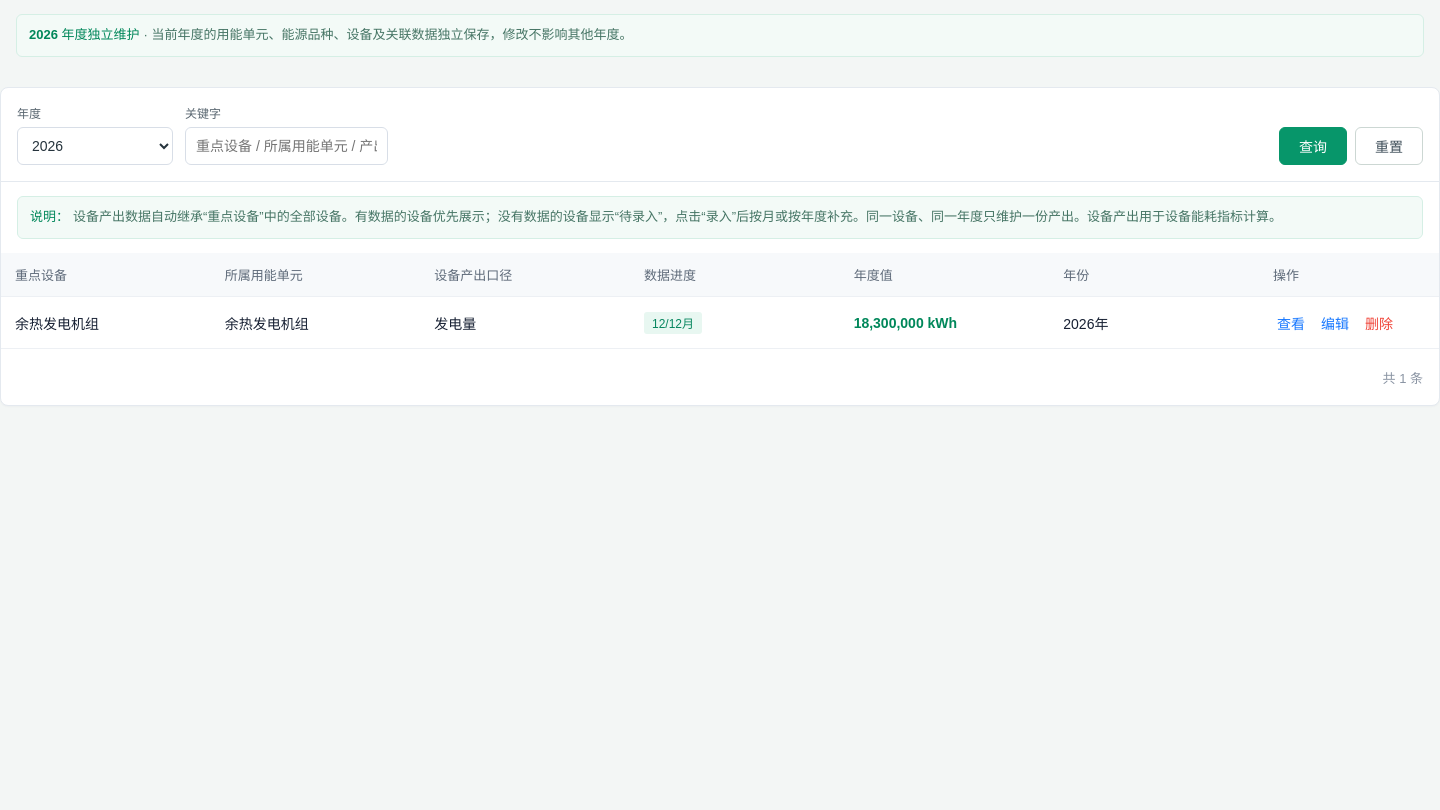
device output page inheritance and entry › cancels or deletes only the selected annual output while retaining the device and flow
The width and height of the screenshot is (1440, 810).
Click the button "删除" at (1379, 323), box [1361,311,1397,335]
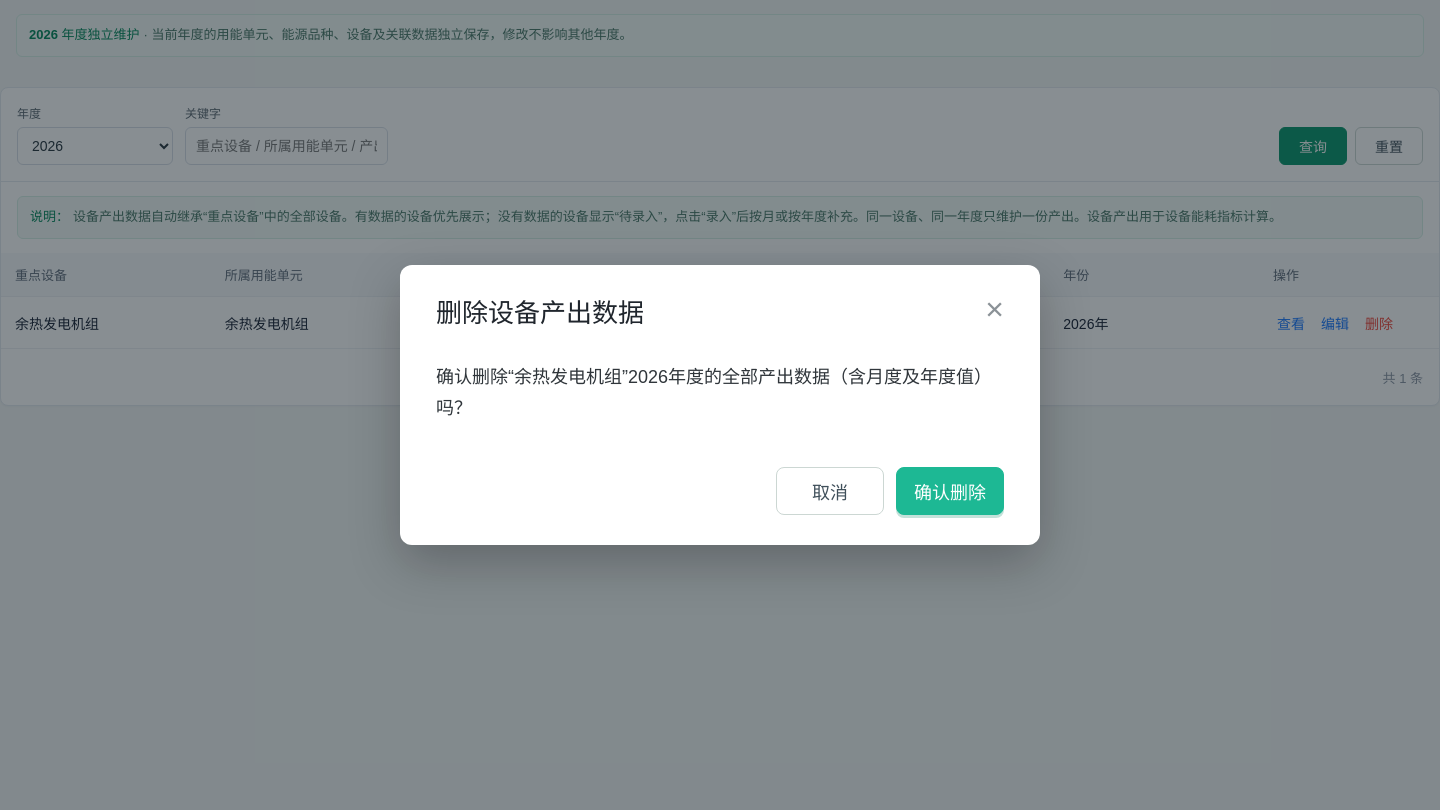
Check: the dialog shows "2026年度的全部产出数据", box [400,264,1040,546]
Click the button "取消" at (830, 492), box [776,468,884,516]
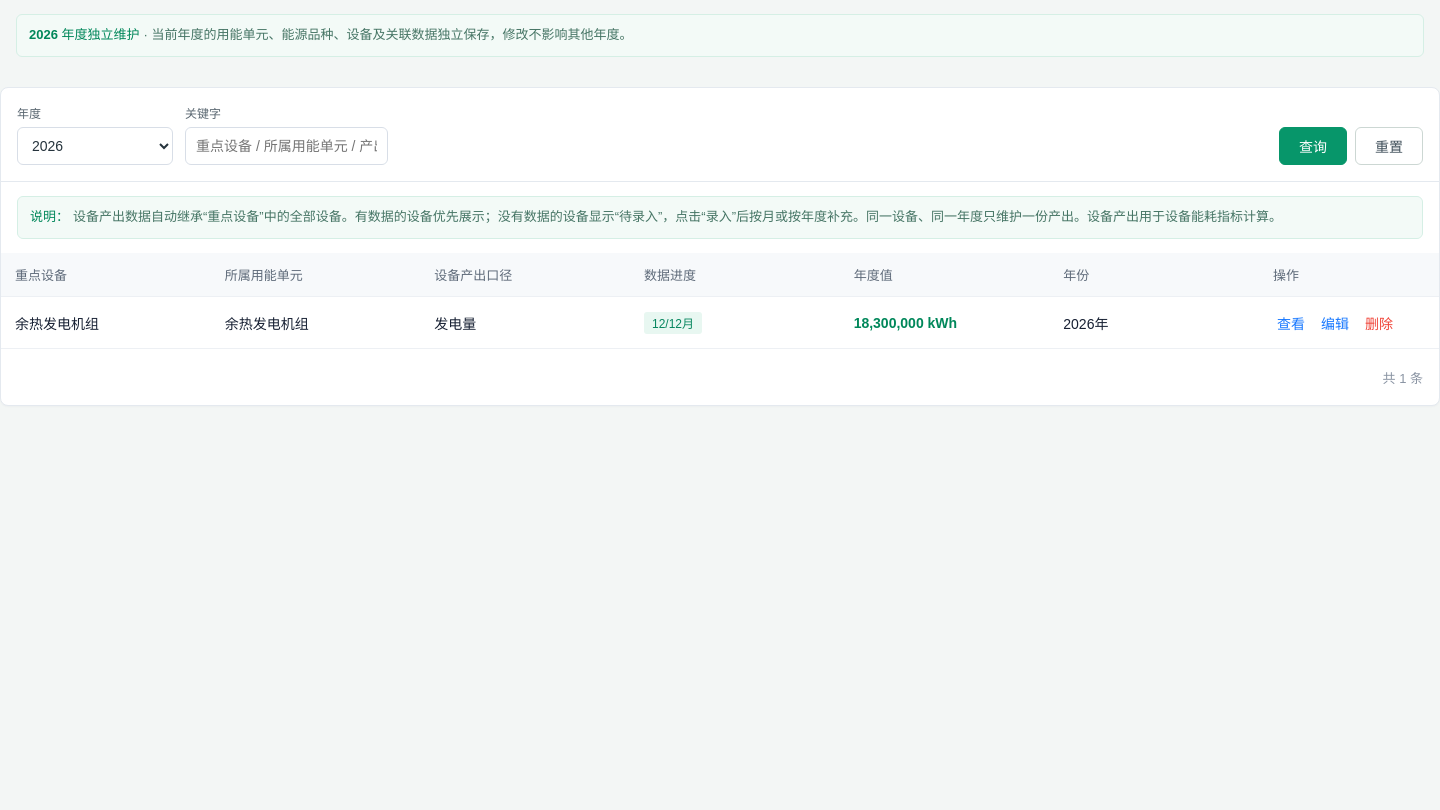
Click the button "删除" at (1379, 323), box [1361,311,1397,335]
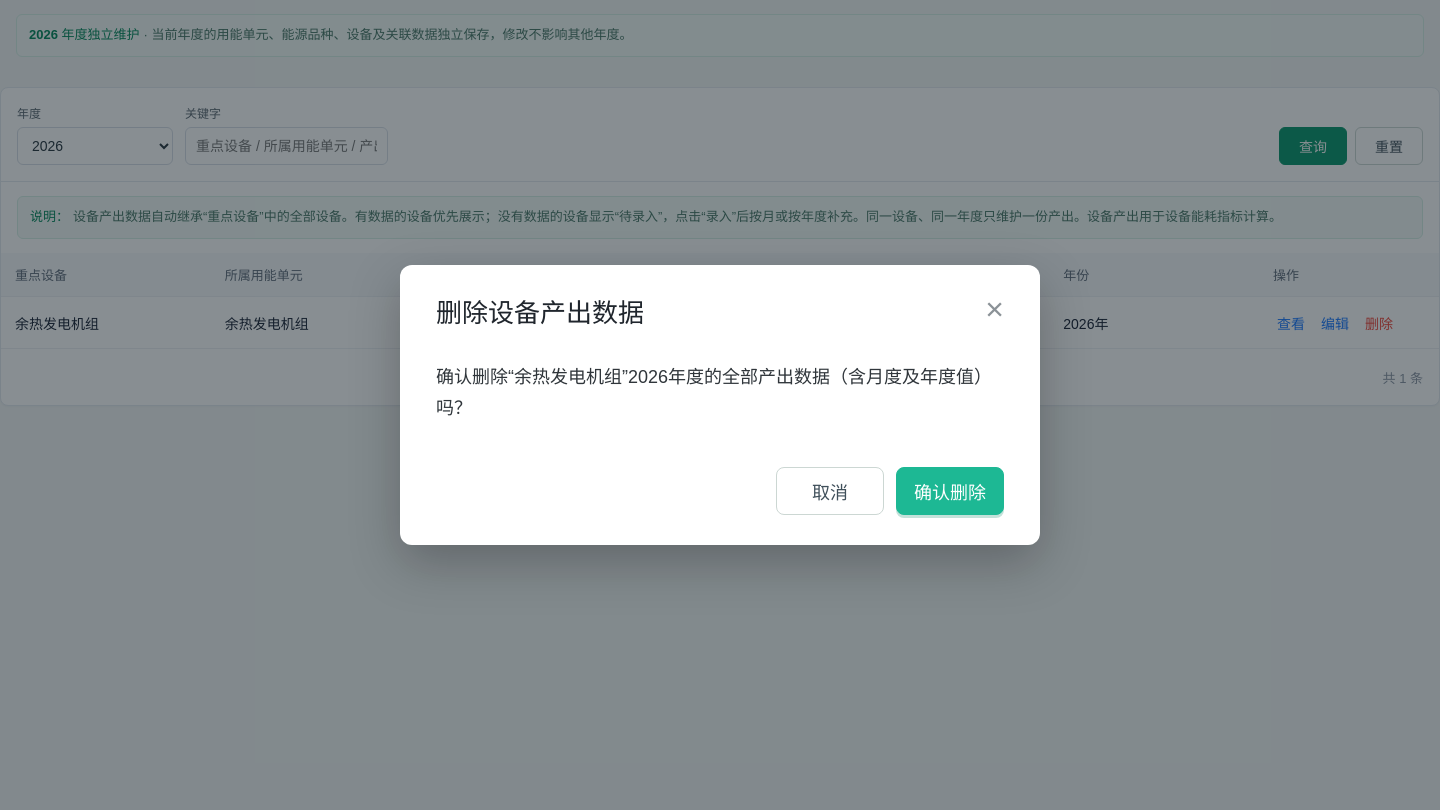
Click the button "确认删除" at (950, 492), box [896,468,1004,516]
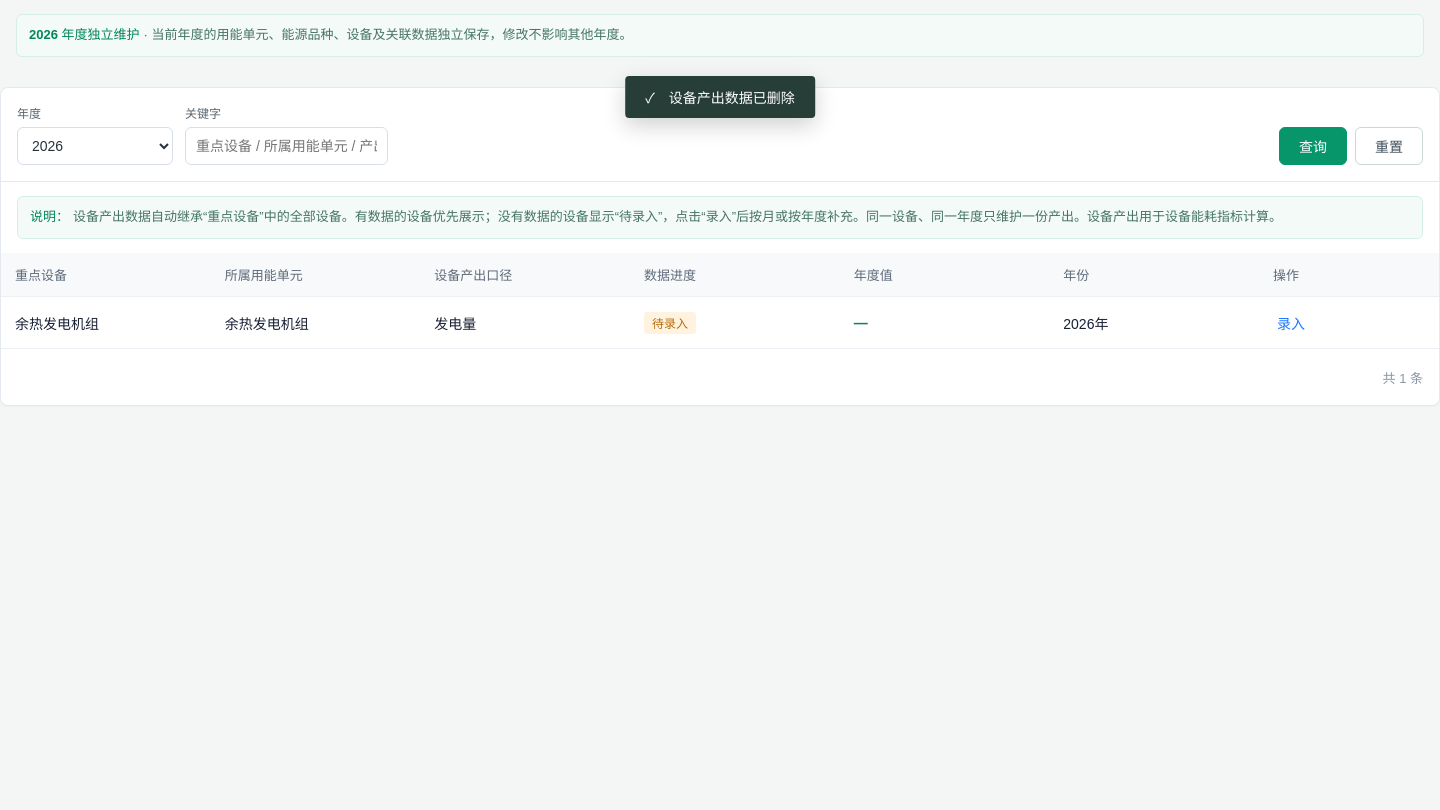
Check: the button "录入" is shown, box [1273,311,1309,335]
Check: the row "余热发电机组 余热发电机组 发电量 待录入 — 2026年 录入" is shown, box [1,297,1439,349]
